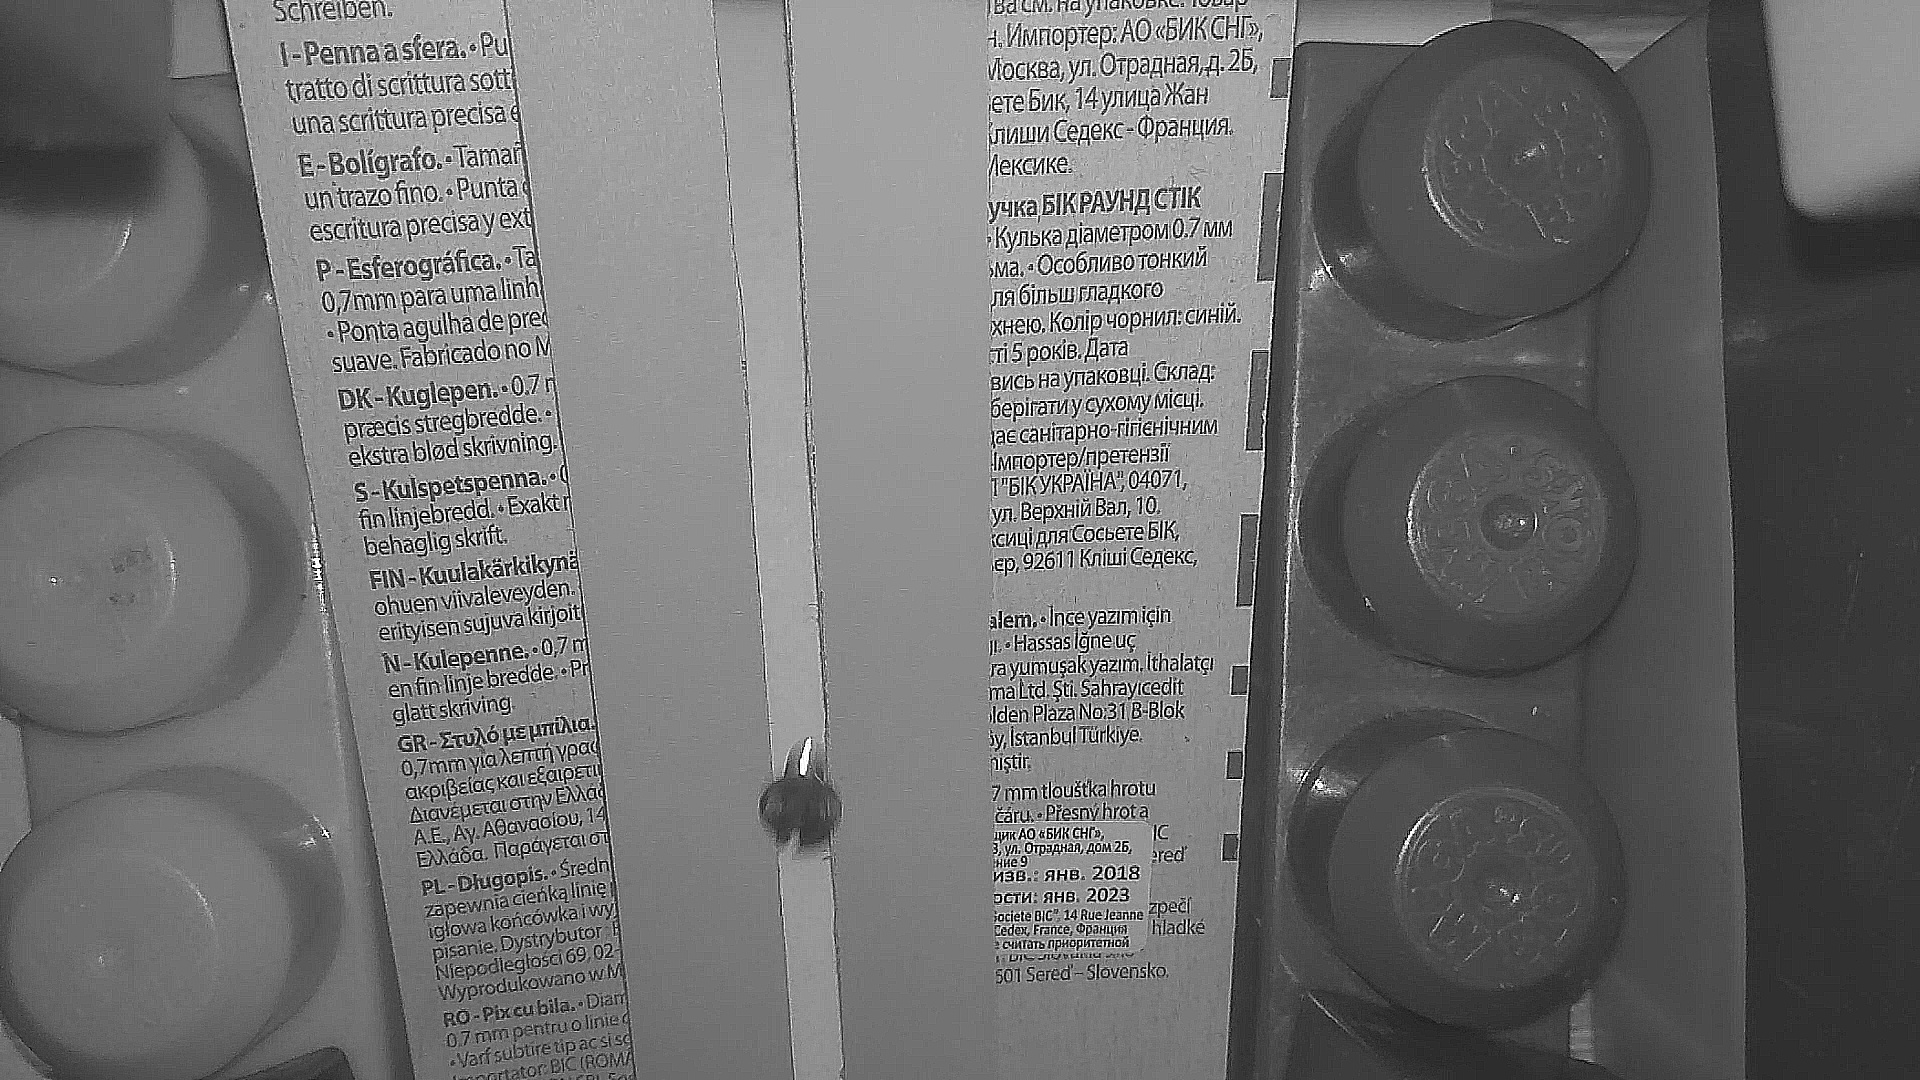i: (760, 771, 845, 849)
